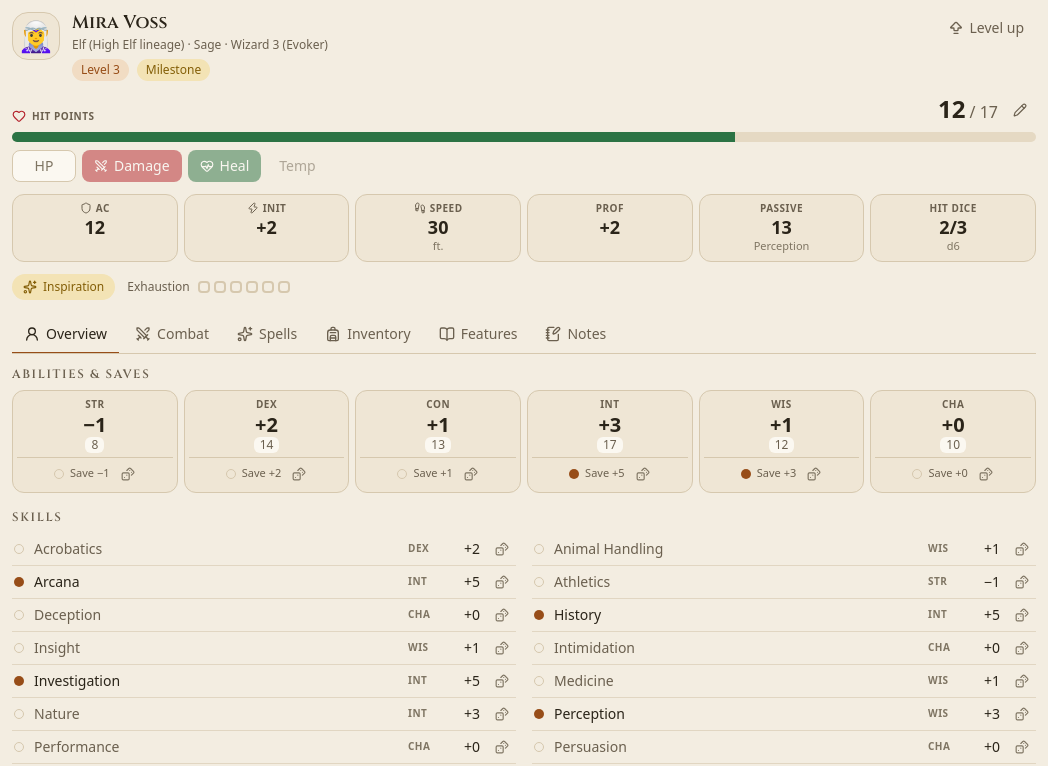
Scenario: features from the player’s books › P3: a ruling stored over a pulled placeholder before the fix (ref.redacted still set) shows as written, not as missing
The image size is (1048, 766).
Step 1. Click the tab "Features" → (478, 334), box [427,316,530,354]
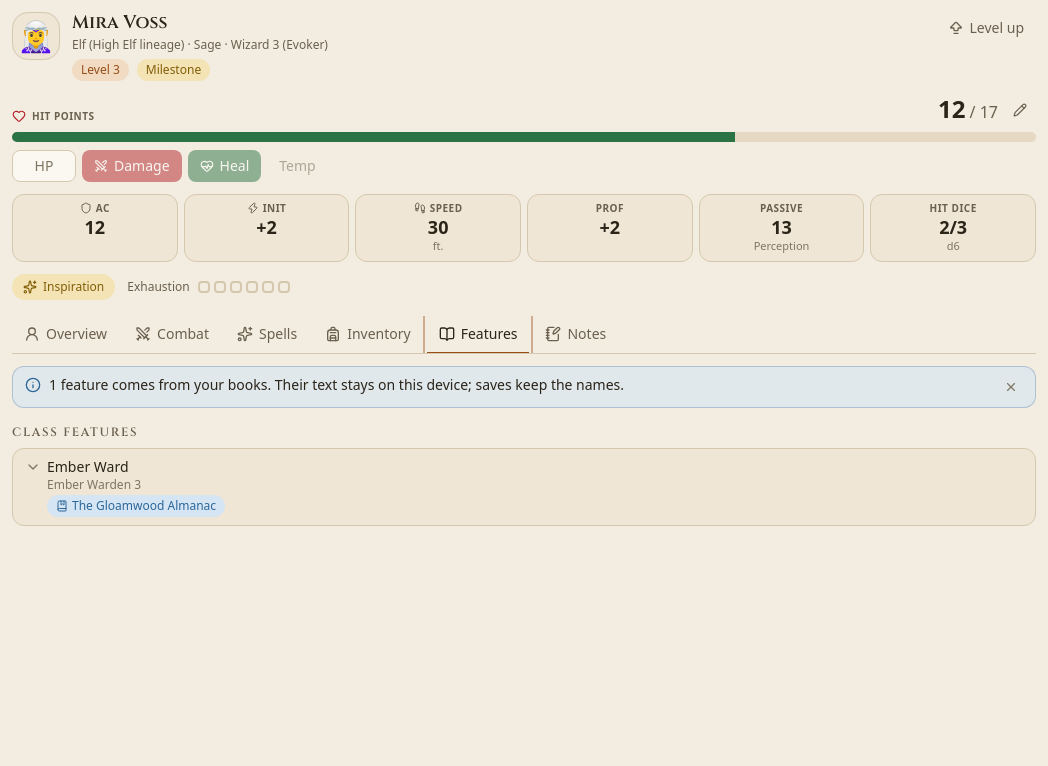
Step 2. Click the button "Ember Ward Ember Warden 3 The Gloamwood Almanac" → (88, 466), box [25,456,1023,516]
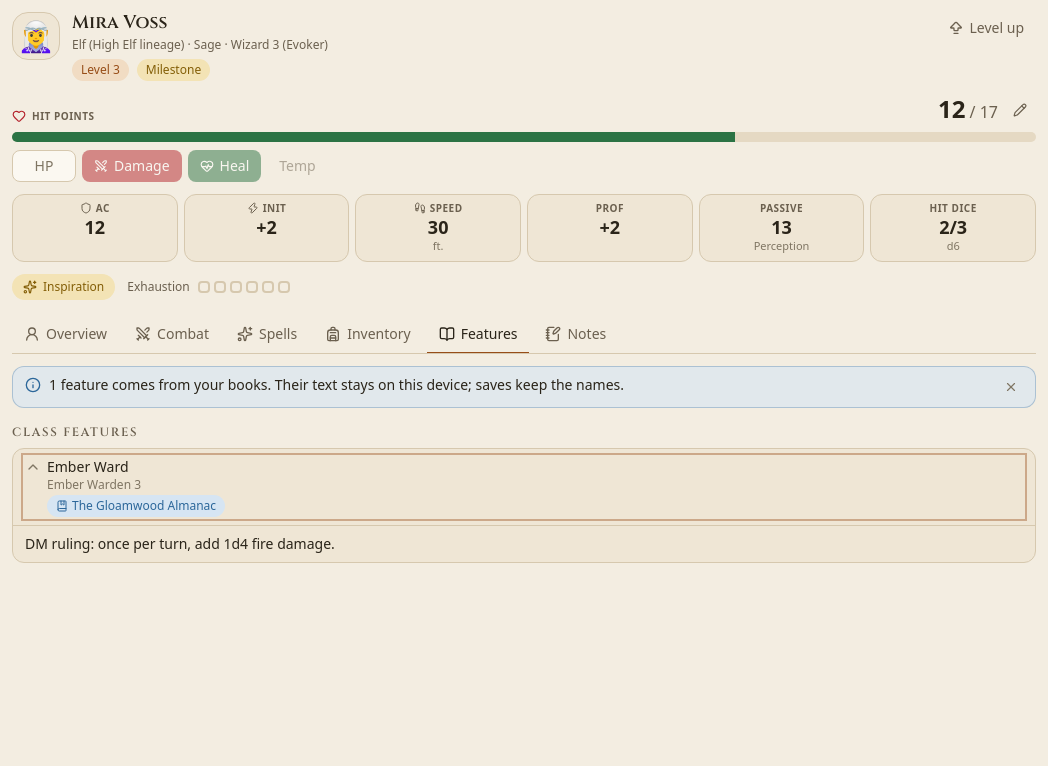
Now the text "DM ruling: once per turn, add 1d4 fire damage." is shown, box [25,534,335,552]
